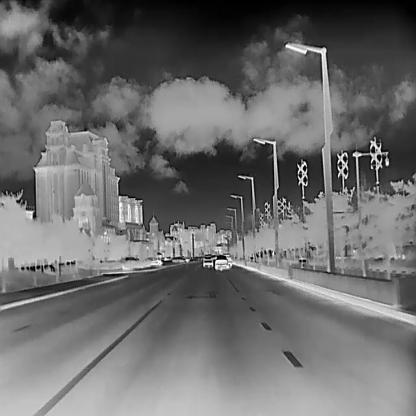car: (122, 255, 143, 269), (214, 252, 227, 270), (222, 252, 232, 267), (147, 255, 162, 265), (202, 252, 212, 266), (171, 255, 185, 262)
